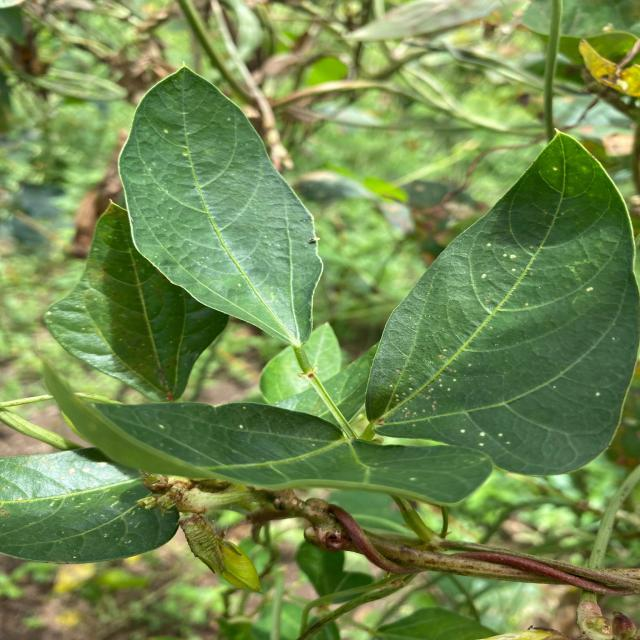sitaw-aphid-high: (366, 133, 640, 475), (119, 68, 322, 346), (92, 401, 491, 505), (53, 224, 207, 401), (0, 448, 178, 563)
